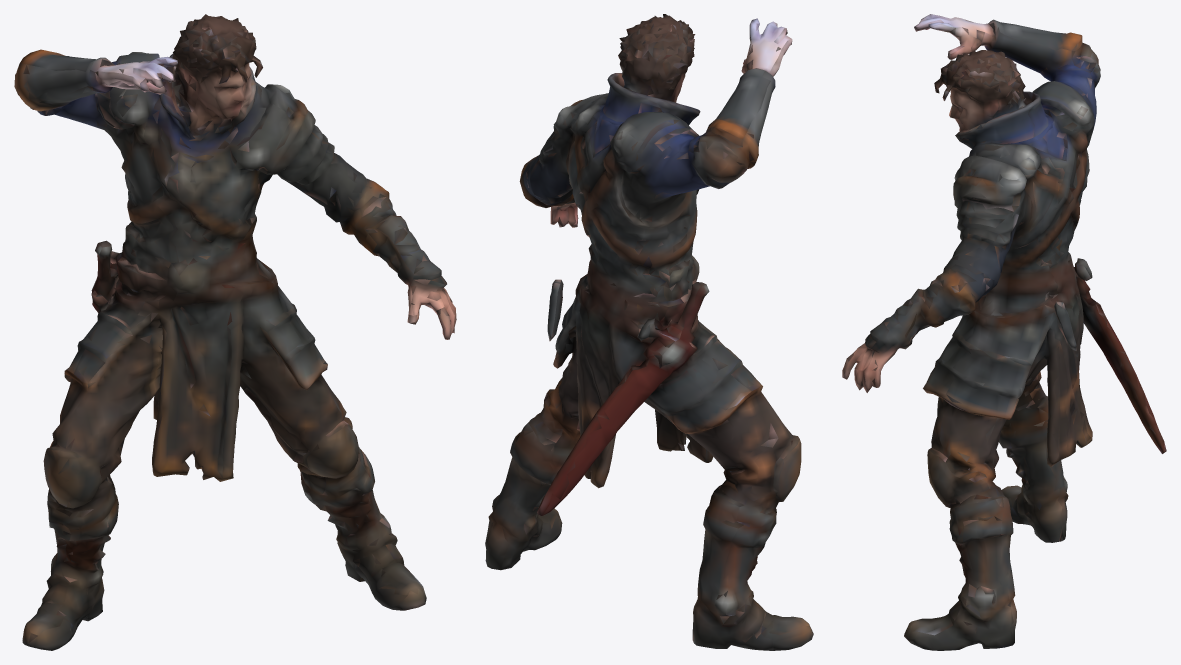
Rendered from Alric_final.glb.
The picture shows the model from 3 angles, left to right: view 1: azimuth 30°, elevation 25°; view 2: azimuth 150°, elevation 25°; view 3: azimuth 270°, elevation 25°; orthographic projection. The views are drawn at different scales.
Visible parts, largest first — view 1: Mesh1.0; view 2: Mesh1.0; view 3: Mesh1.0.
Part boxes in pixels (x1,y1,x2,y2): Mesh1.0: [14, 14, 456, 650]; Mesh1.0: [485, 14, 813, 650]; Mesh1.0: [842, 14, 1166, 650].
Bounding box in the file's own units: 1.11 × 1.8 × 1.01.
Materials: 1 (1 with a texture image).
